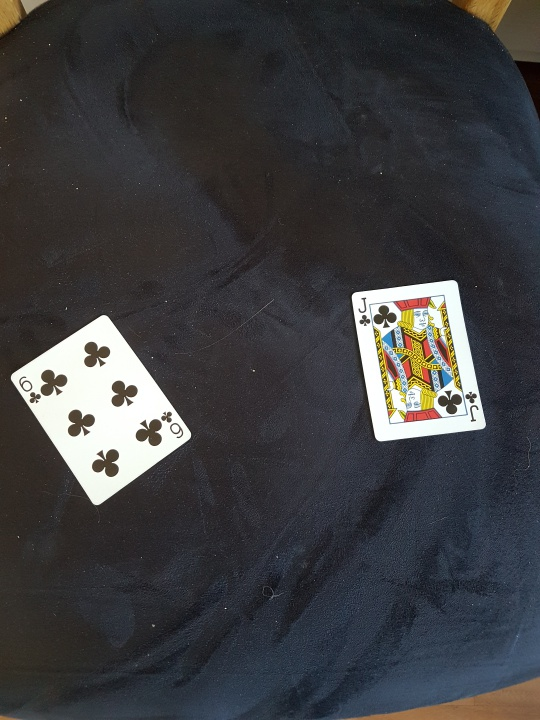6: (11, 308, 204, 520)
jack: (343, 279, 491, 445)
